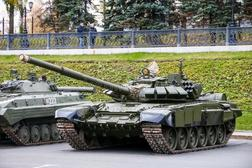t72: (57, 52, 240, 148)
